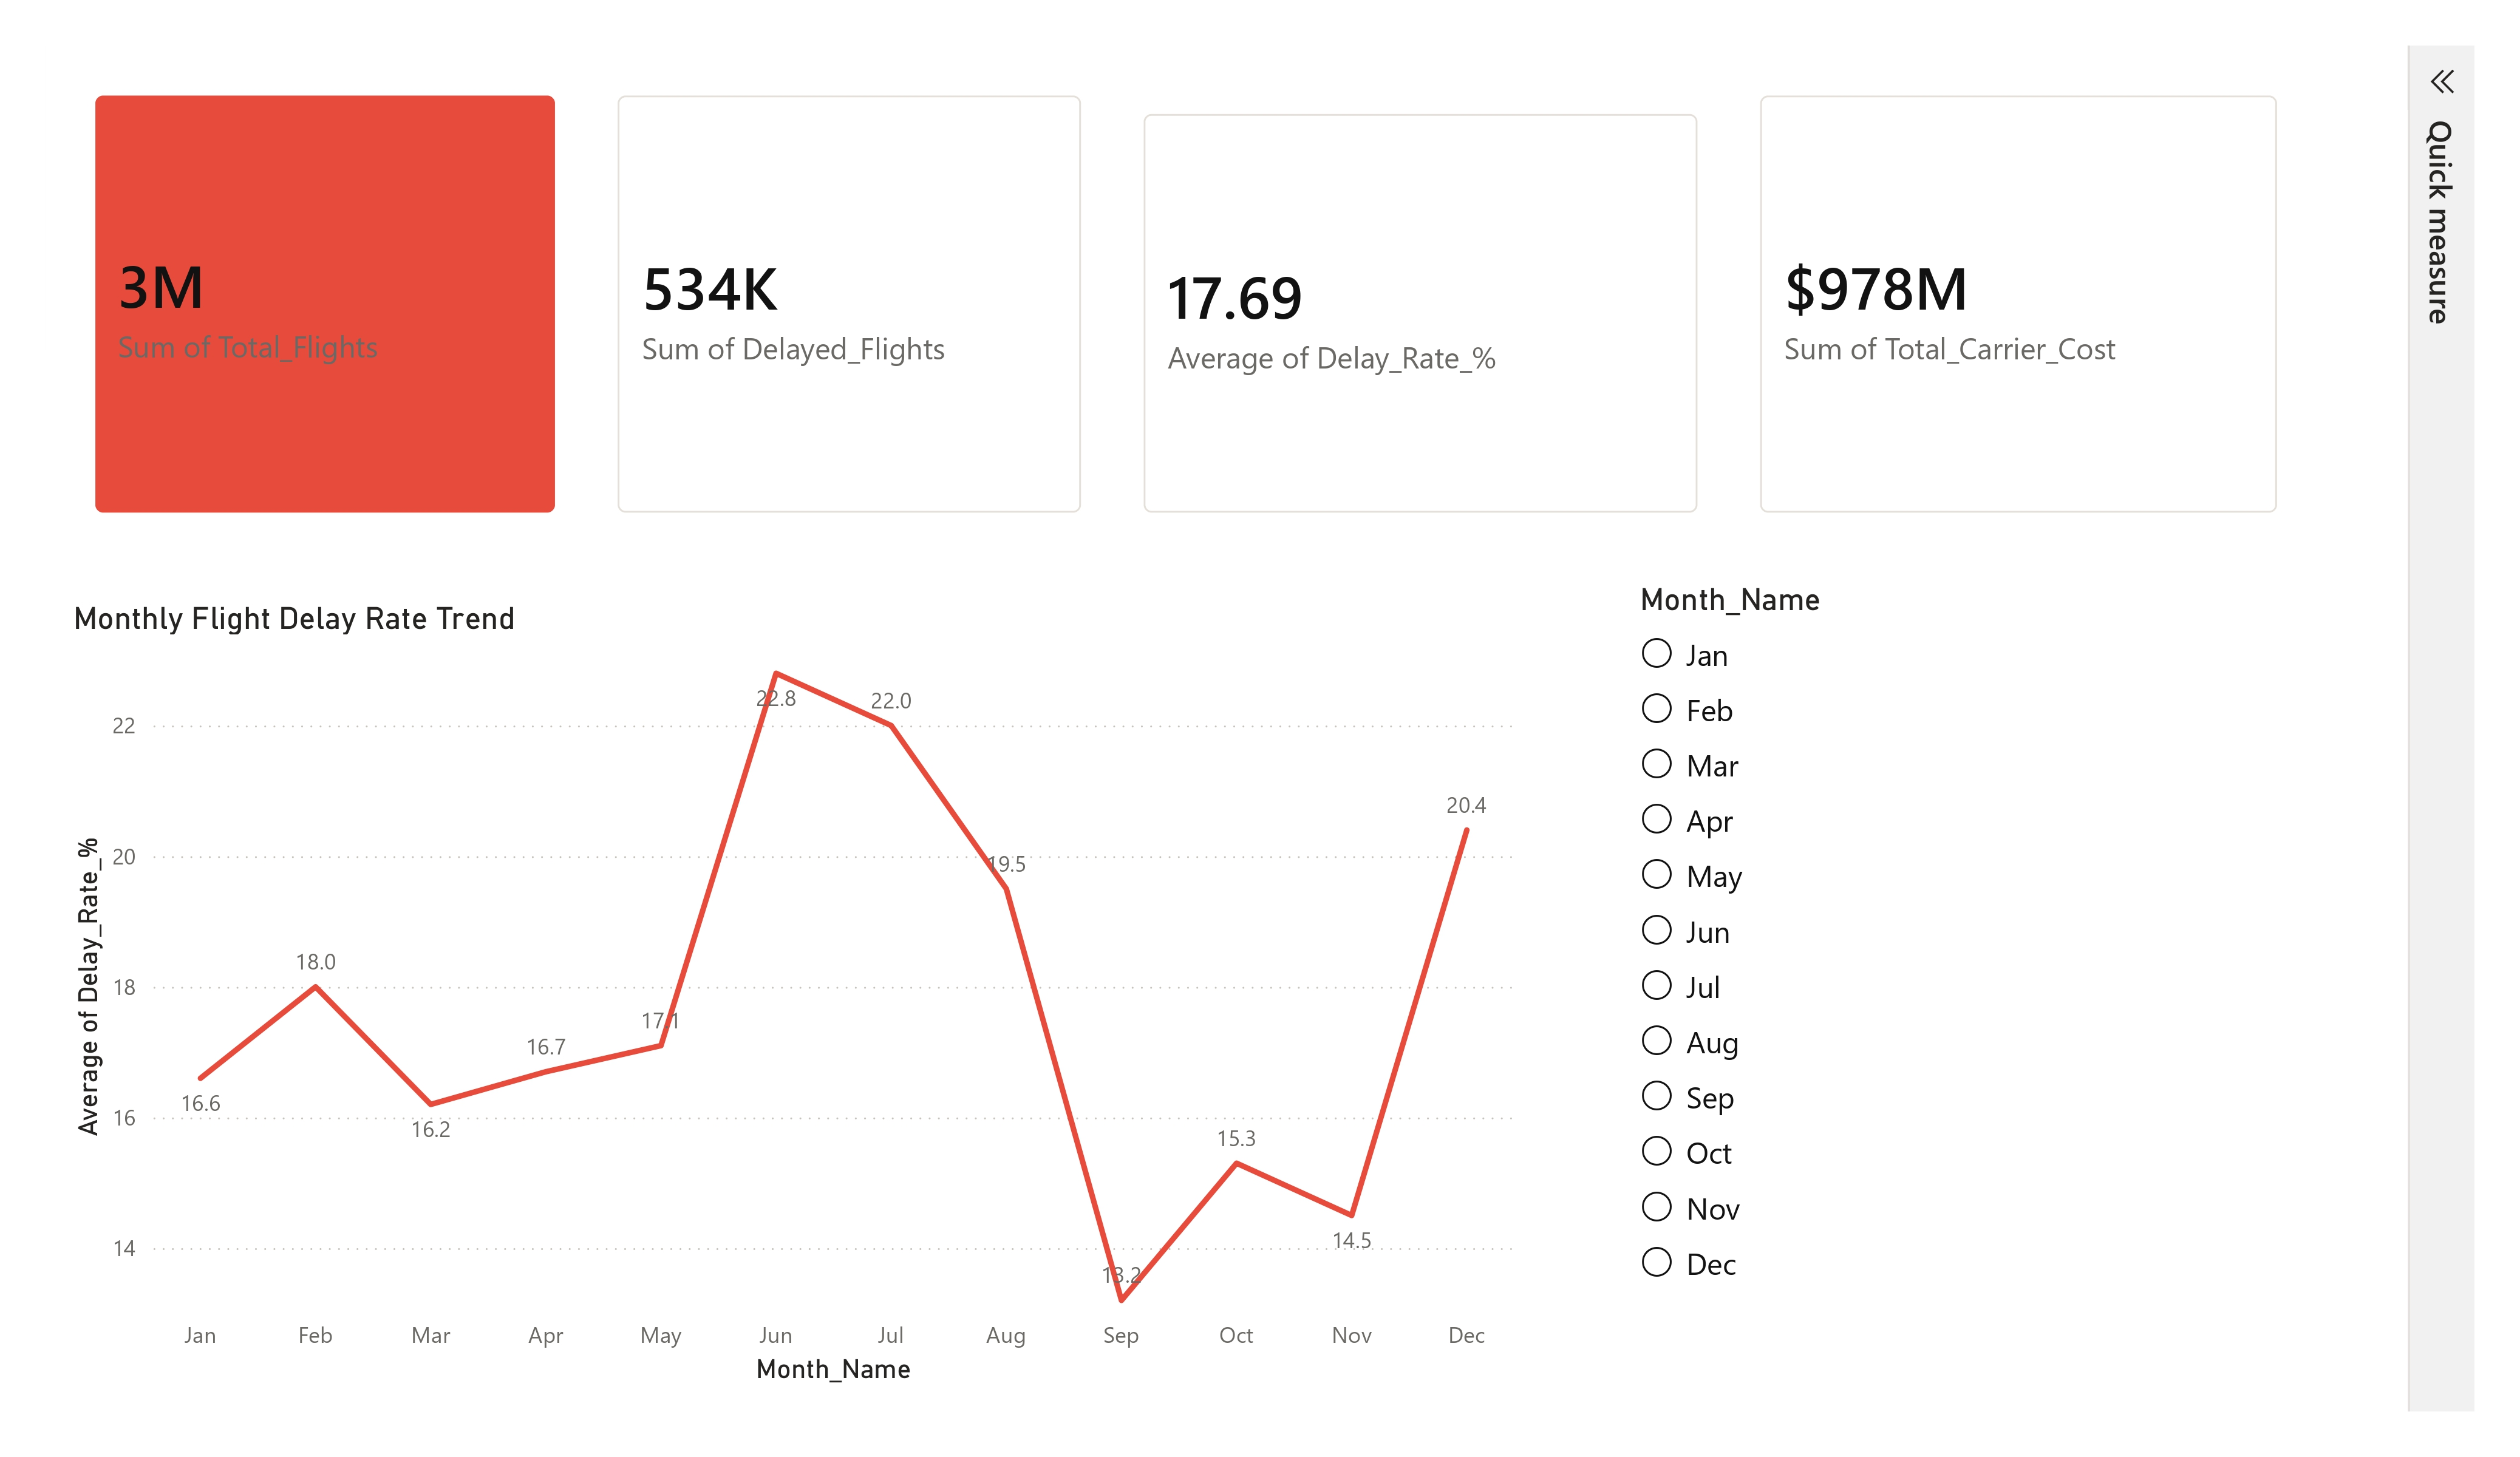

The page's visual inventory and layout, read from the dashboard file:
{"tool":"powerbi","page":{"name":"Overview ","canvas":[1280,720],"ordinal":0},"visuals":[{"type":"cardVisual","fields":{"Data":["Sum(monthly_summary.Total_Flights)"]},"box":[9.8,0,282.7,260.4],"z":0},{"type":"cardVisual","fields":{"Data":["Sum(monthly_summary.Delayed_Flights)"]},"box":[292.5,0,286,260.4],"z":1000},{"type":"cardVisual","fields":{"Data":["Avg(monthly_summary.Delay_Rate_%)"]},"box":[578.5,9.8,333.7,250.6],"z":2000},{"type":"cardVisual","fields":{"Data":["Sum(monthly_summary.Total_Carrier_Cost)"]},"box":[912.2,0,313.5,260.4],"z":3000},{"type":"lineChart","title":"Monthly Flight Delay Rate Trend","fields":{"Y":["Avg(monthly_summary.Delay_Rate_%)"],"Category":["monthly_summary.Month_Name"]},"box":[9.7,289.8,790.8,429.9],"z":4000},{"type":"listSlicer","fields":{"Values":["monthly_summary.Month_Name"]},"box":[859.2,280.1,330.5,430.6],"z":4001}]}

Visuals, with their boxes on the page's 1280x720 design canvas (x1, y1, x2, y2). These are canvas units, not pixel positions in the 2520x1457 screenshot, which may show the page scaled, cropped or inside an application window:
cardVisual - Sum(monthly_summary.Total_Flights): pyautogui.locateOnScreen(10, 0, 292, 260)
cardVisual - Sum(monthly_summary.Delayed_Flights): pyautogui.locateOnScreen(292, 0, 578, 260)
cardVisual - Avg(monthly_summary.Delay_Rate_%): pyautogui.locateOnScreen(578, 10, 912, 260)
cardVisual - Sum(monthly_summary.Total_Carrier_Cost): pyautogui.locateOnScreen(912, 0, 1226, 260)
"Monthly Flight Delay Rate Trend" lineChart: pyautogui.locateOnScreen(10, 290, 800, 720)
listSlicer - monthly_summary.Month_Name: pyautogui.locateOnScreen(859, 280, 1190, 711)
